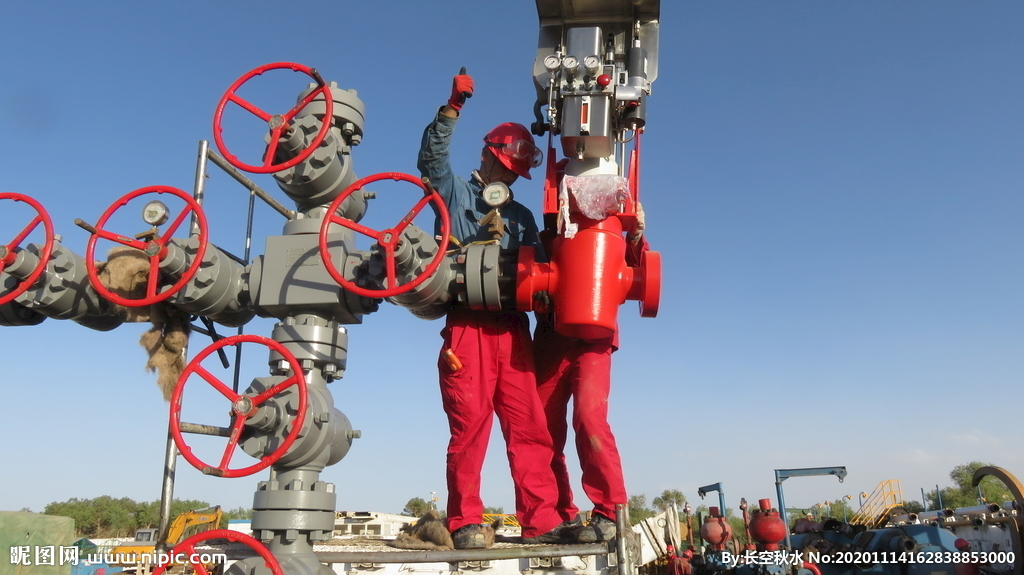safetyhat: (409, 83, 564, 559)
